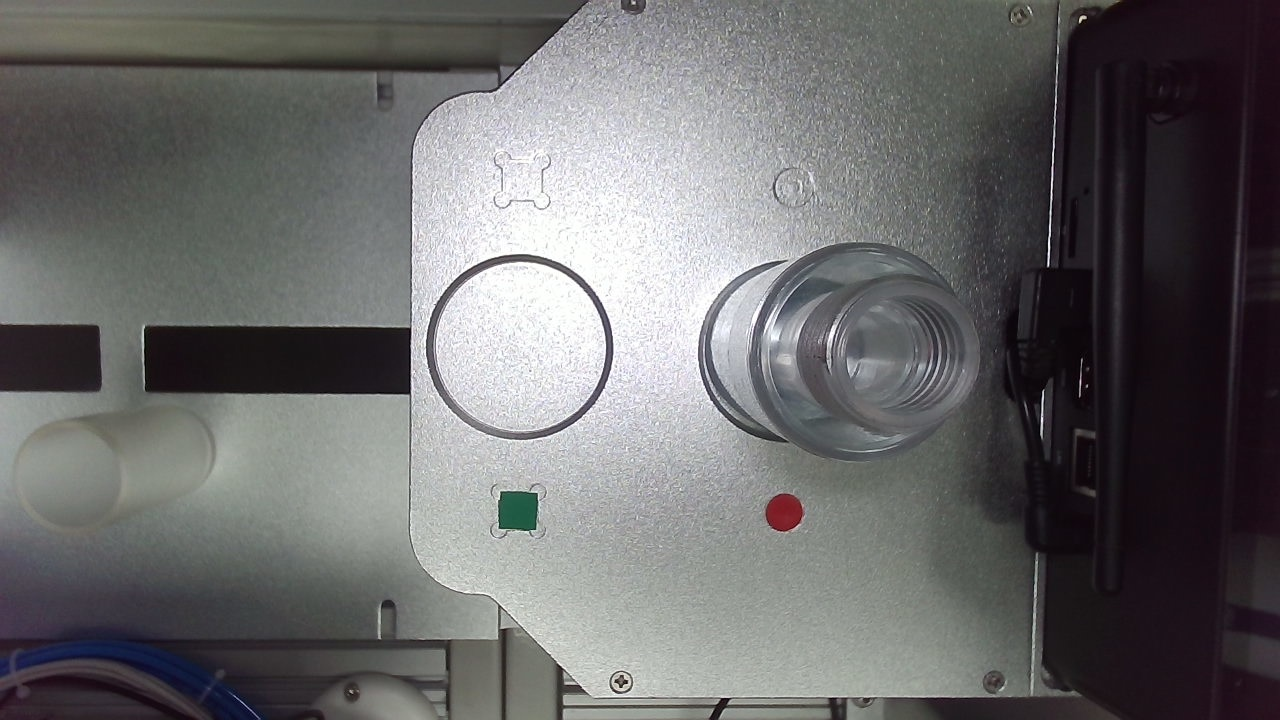XLabel: (798, 344, 832, 377)
YLabel: (578, 342, 613, 377)
none: (512, 411, 675, 574)
transparenexcept: (736, 416, 1026, 644)
